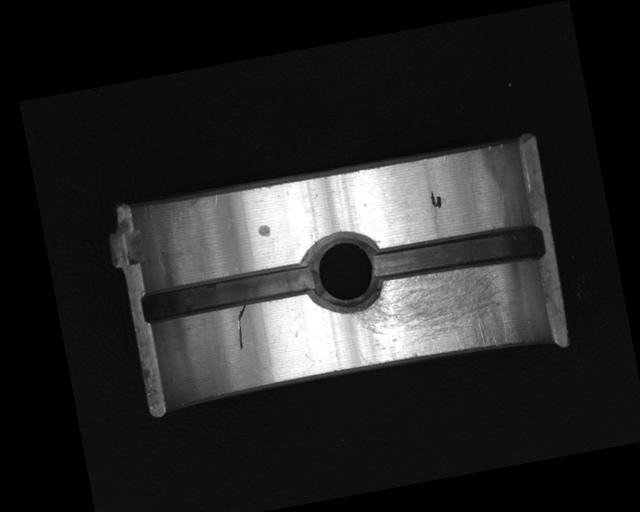blot: (428, 190, 443, 210)
bruise: (257, 222, 271, 238)
gap: (137, 259, 318, 326), (369, 219, 547, 287)
hole: (299, 226, 388, 320)
nick: (231, 302, 253, 350)
scratch: (346, 257, 518, 371)
